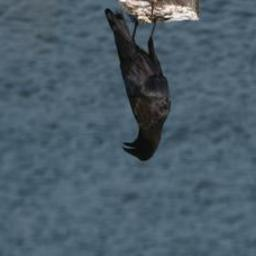Crow: (104, 6, 172, 162)
